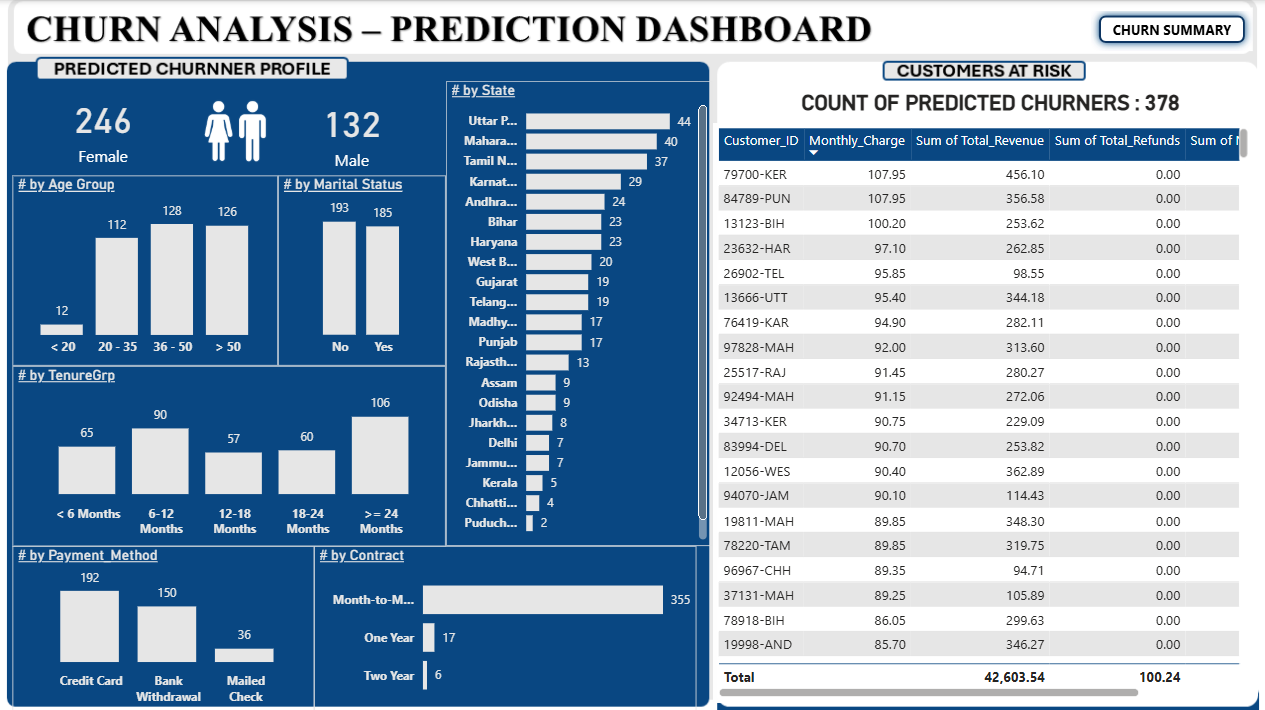

Layout of this report page (visuals, bound fields, positions):
{"tool":"powerbi","page":{"name":"CHURN PREDICTION","canvas":[1280,720],"ordinal":2},"visuals":[{"type":"tableEx","fields":{"Values":["Prediction_data.Customer_ID","Prediction_data.Monthly_Charge","Sum(Prediction_data.Total_Revenue)","Sum(Prediction_data.Total_Refunds)","Sum(Prediction_data.Number_of_Referrals)"]},"box":[720.8,124.2,545.1,584.5],"z":0},{"type":"card","fields":{"Values":["Table_Measures.Title Predicted Churners"]},"box":[791.9,81.8,417.9,42.4],"z":1000},{"type":"card","fields":{"Values":["Table_Measures.Count Predicted Churner"]},"box":[13.6,84.8,183.2,87.8],"z":2000},{"type":"card","fields":{"Values":["Table_Measures.Count Predicted Churner"]},"box":[260.4,89.3,190.8,87.8],"z":3000},{"type":"clusteredColumnChart","fields":{"Category":["Mapping_AgeGrp.Age Group"],"Y":["CountNonNull(Prediction_data.Customer_ID)"]},"box":[13.6,177.2,268,192.3],"z":4000},{"type":"clusteredColumnChart","fields":{"Category":["Prediction_data.Married"],"Y":["CountNonNull(Prediction_data.Customer_ID)"]},"box":[281.6,177.2,169.6,192.3],"z":5000},{"type":"clusteredColumnChart","fields":{"Y":["CountNonNull(Prediction_data.Customer_ID)"],"Category":["Mapping_TenureGrp.TenureGrp"]},"box":[13.6,369.5,437.6,181.7],"z":6000},{"type":"clusteredColumnChart","fields":{"Y":["CountNonNull(Prediction_data.Customer_ID)"],"Category":["Prediction_data.Payment_Method"]},"box":[13.6,551.2,304.4,169.6],"z":7000},{"type":"clusteredBarChart","fields":{"Category":["Prediction_data.Contract"],"Y":["CountNonNull(Prediction_data.Customer_ID)"]},"box":[318,551.2,386.1,168.1],"z":8000},{"type":"clusteredBarChart","fields":{"Category":["Prediction_data.State"],"Y":["CountNonNull(Prediction_data.Customer_ID)"]},"box":[451.2,81.8,269.5,469.4],"z":9000},{"type":"image","box":[171.1,87.1,134.8,87.8],"z":10000},{"type":"shape","box":[1102.3,7.6,163.5,43.9],"z":11000}]}

Visuals, with their boxes in screenshot pixels (x1, y1, x2, y2), scaled from the page's 1280x720 canvas onto the 1265x710 screenshot:
tableEx - Prediction_data.Customer_ID x Prediction_data.Monthly_Charge: (x1=712, y1=122, x2=1251, y2=699)
card - Table_Measures.Title Predicted Churners: (x1=783, y1=81, x2=1196, y2=122)
card - Table_Measures.Count Predicted Churner: (x1=13, y1=84, x2=194, y2=170)
card - Table_Measures.Count Predicted Churner: (x1=257, y1=88, x2=446, y2=175)
clusteredColumnChart - Mapping_AgeGrp.Age Group x CountNonNull(Prediction_data.Customer_ID): (x1=13, y1=175, x2=278, y2=364)
clusteredColumnChart - Prediction_data.Married x CountNonNull(Prediction_data.Customer_ID): (x1=278, y1=175, x2=446, y2=364)
clusteredColumnChart - CountNonNull(Prediction_data.Customer_ID) x Mapping_TenureGrp.TenureGrp: (x1=13, y1=364, x2=446, y2=544)
clusteredColumnChart - CountNonNull(Prediction_data.Customer_ID) x Prediction_data.Payment_Method: (x1=13, y1=544, x2=314, y2=709)
clusteredBarChart - Prediction_data.Contract x CountNonNull(Prediction_data.Customer_ID): (x1=314, y1=544, x2=696, y2=709)
clusteredBarChart - Prediction_data.State x CountNonNull(Prediction_data.Customer_ID): (x1=446, y1=81, x2=712, y2=544)
image: (x1=169, y1=86, x2=302, y2=172)
shape: (x1=1089, y1=7, x2=1251, y2=51)
